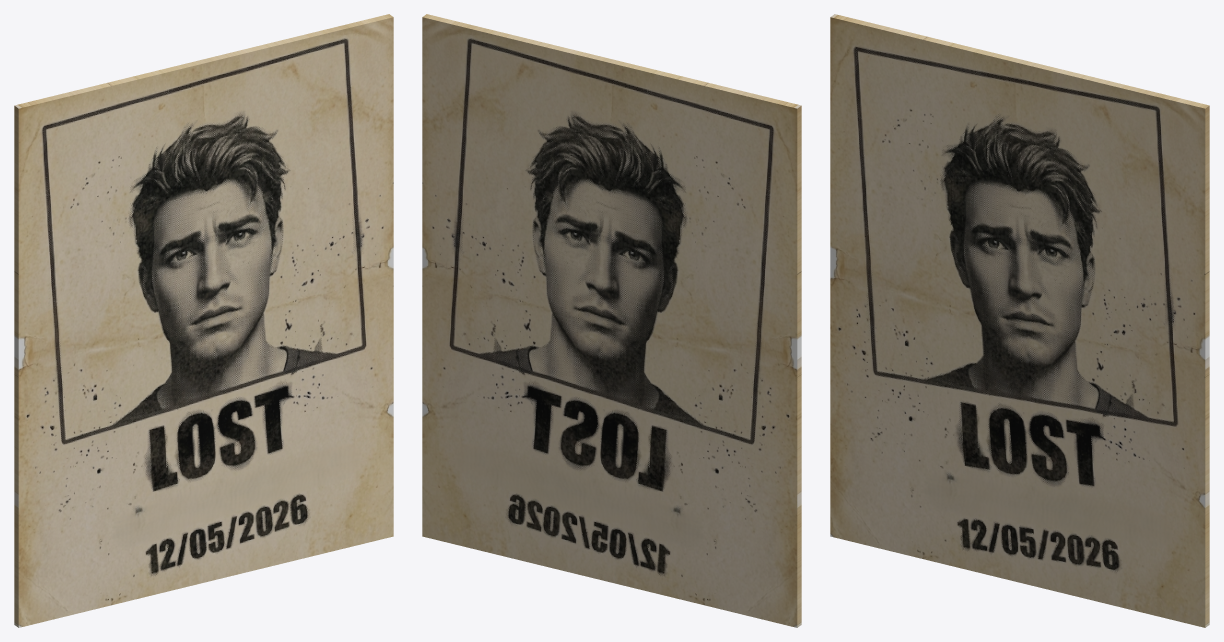
Rendered from Cartel Desaparecido 3.fbx.
The picture shows the model from 3 angles, left to right: view 1: azimuth 30°, elevation 25°; view 2: azimuth 150°, elevation 25°; view 3: azimuth 330°, elevation 25°; orthographic projection.
Parts seen in each view (by area): view 1: Plane001; view 2: Plane001; view 3: Plane001.
Boxes of the visible parts, x1,y1,x2,y2 form: Plane001: (14,14,393,627); Plane001: (422,14,801,627); Plane001: (830,14,1209,627).
Size of the model in its own units: 6.8 by 9 by 0.1362.
